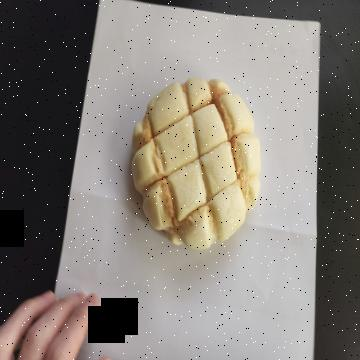melon_bread: (130, 76, 261, 252)
